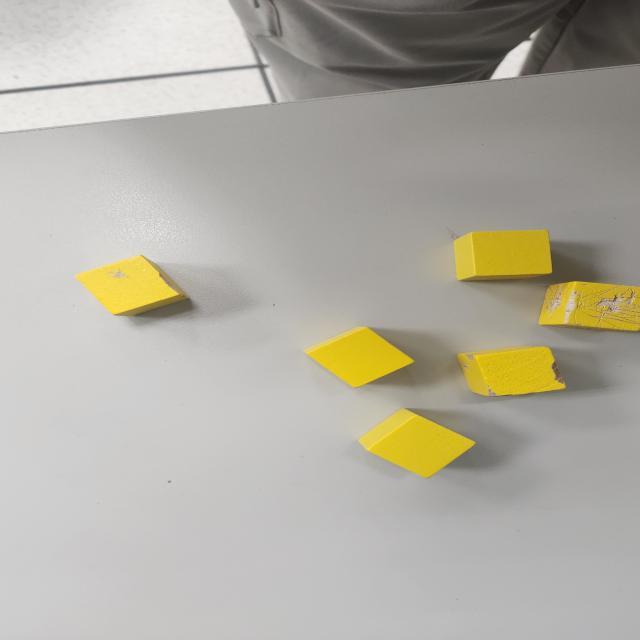broken: (74, 255, 190, 318), (455, 345, 570, 398), (539, 281, 640, 334)
yellow: (358, 408, 476, 478), (302, 327, 414, 388), (452, 230, 552, 282)
